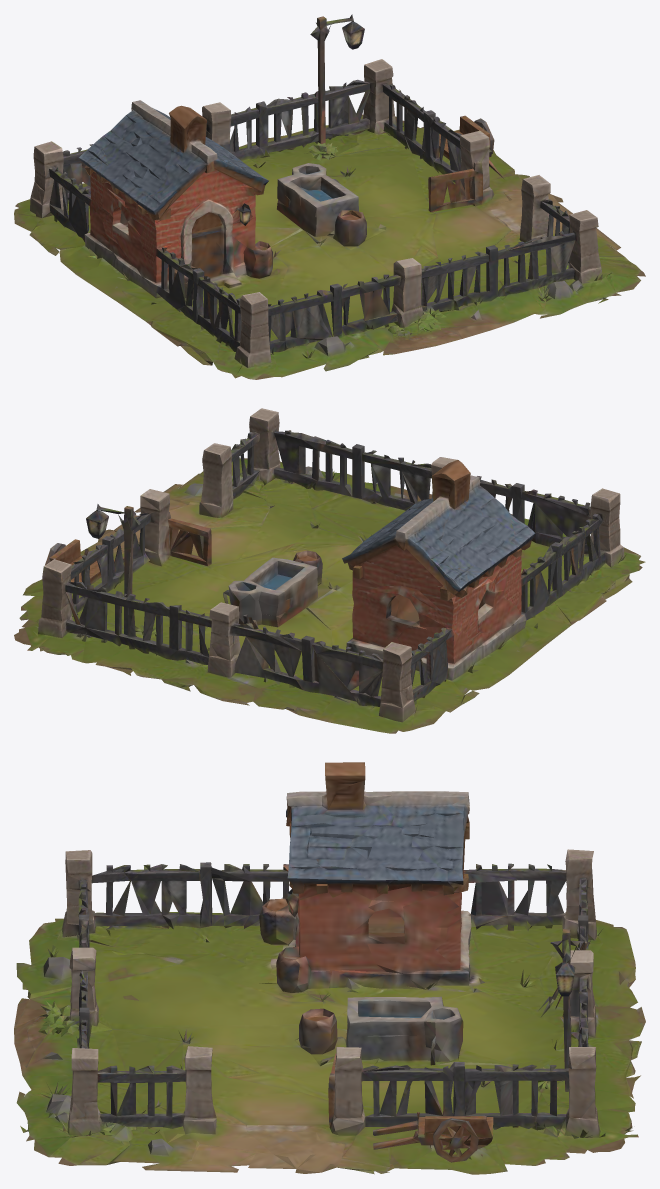
Rendered from pasture.glb.
3 views of the same model, one above another, from view 1: azimuth 30°, elevation 25°; view 2: azimuth 150°, elevation 25°; view 3: azimuth 270°, elevation 25° (orthographic). The views are drawn at different scales.
Bounding box in the file's own units: 1.87 × 0.6704 × 1.9.
1 material, 1 textured.
